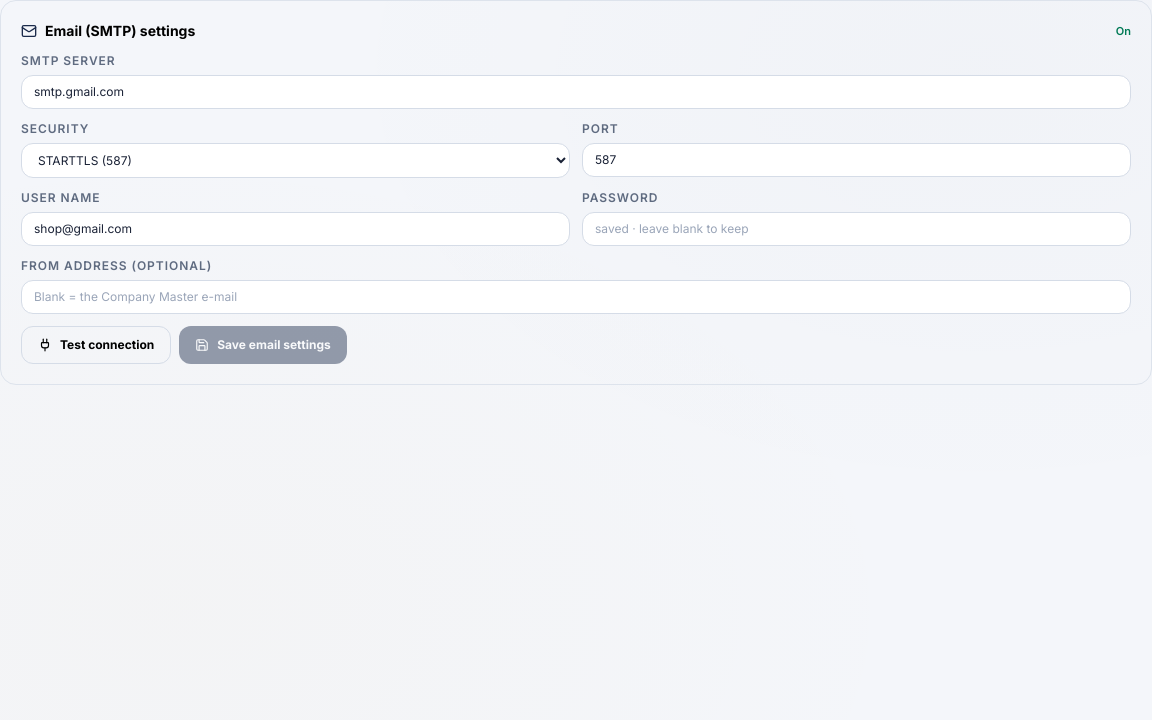
Scenario: SmtpSetting › shows why a connection failed
Expected: the field showing "smtp.gmail.com" is shown, 21,75 -> 1131,109
Click the button "Test connection".
click(96, 345)  # box 21,326 -> 171,364
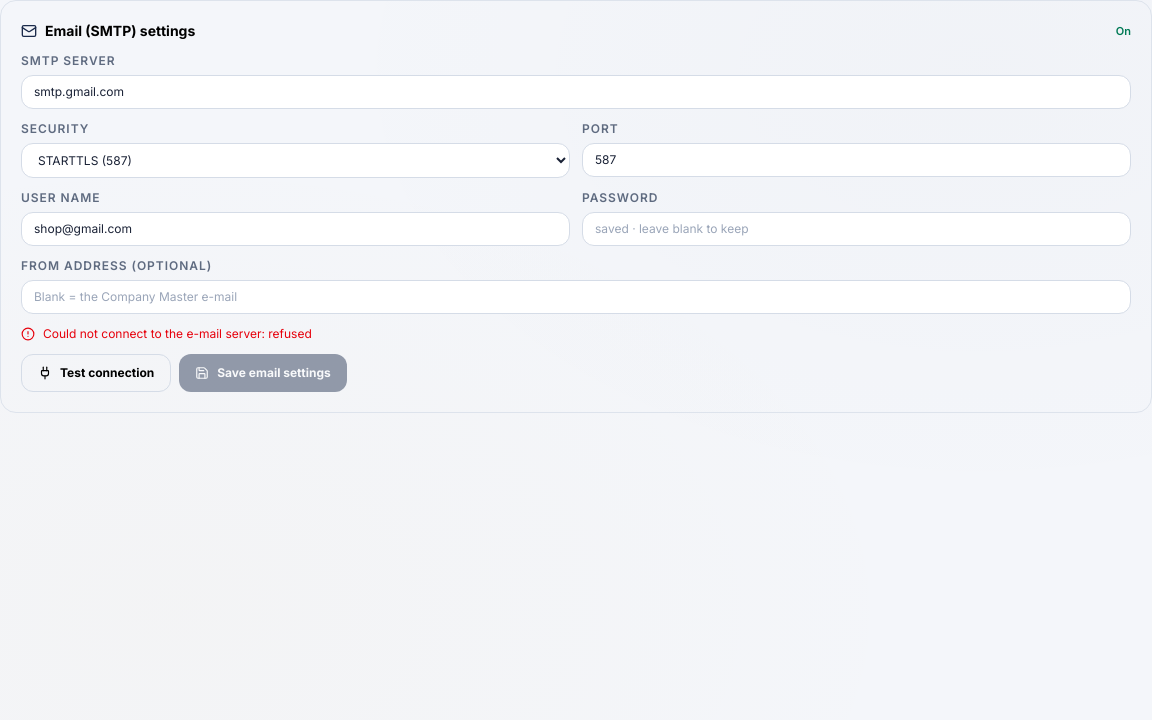
Now the message shows "refused", box 43,326 -> 312,341
